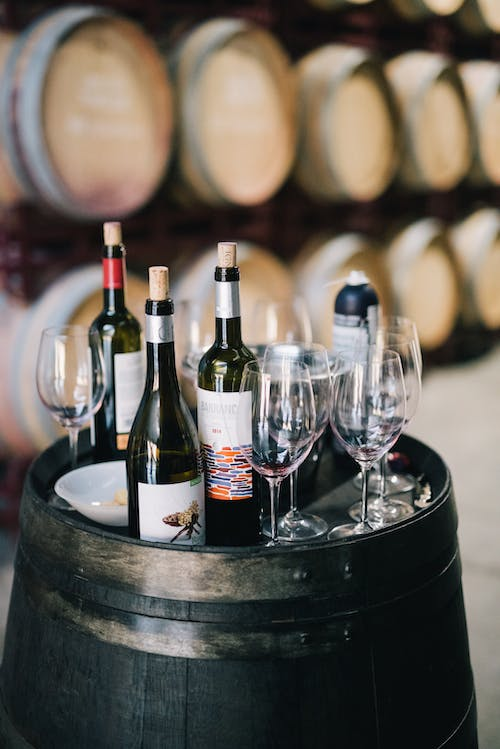alcohol: (123, 298, 206, 547), (195, 265, 260, 546), (326, 344, 408, 542), (233, 357, 317, 547), (345, 330, 423, 526), (261, 341, 334, 542), (85, 243, 146, 464), (352, 314, 423, 495), (34, 323, 108, 471)
